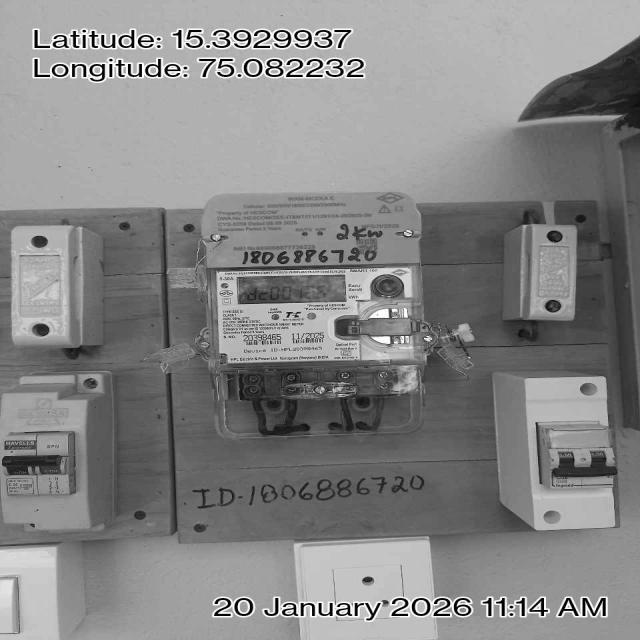meter: (213, 265, 424, 362)
